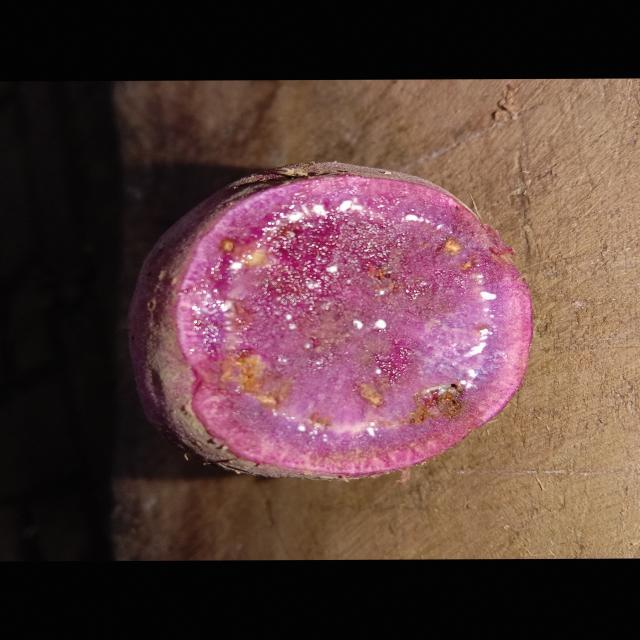Sick Sweet Potato_Tuber Rot: (175, 175, 532, 475)
